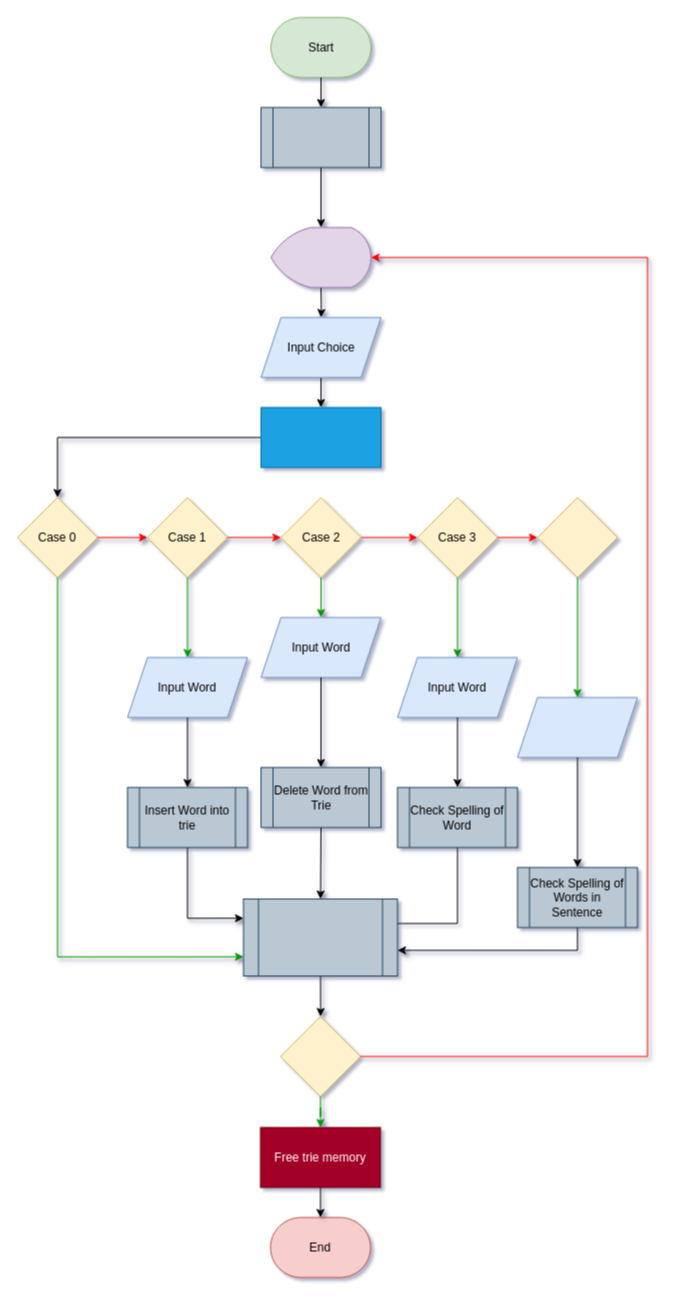
This 685x1301 diagram has some shape labels left out. The centre of each missing label's shape, as x and y in pixels:
"Case 4" goes at point (577, 537).
"Choice == 0" goes at point (320, 1056).
"Display Menu" goes at point (320, 257).
"Input Sentence" goes at point (577, 727).
"Read & Store UI Frames from ui.txt" goes at point (320, 137).
"Set Message for Choice & Success of executed case" goes at point (320, 937).
"Switch Choice" goes at point (320, 437).
